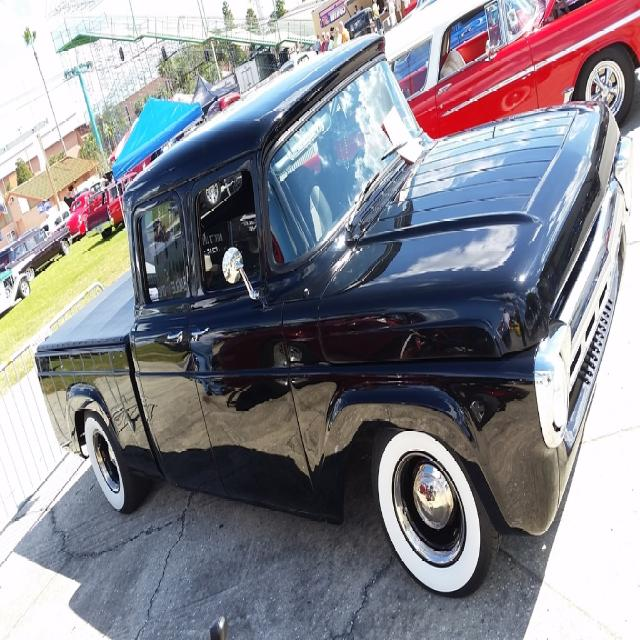car: (1, 222, 67, 300), (71, 189, 103, 232)
